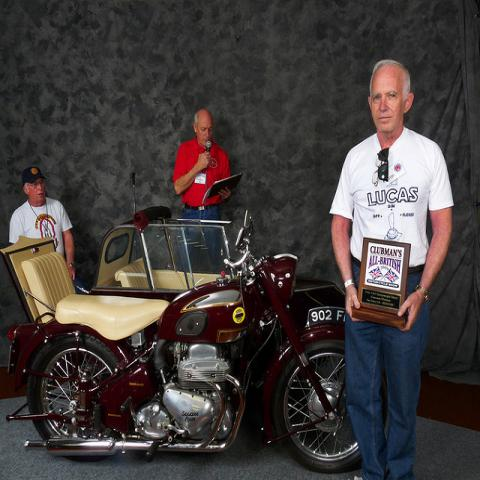motorcycle: (3, 207, 362, 474)
